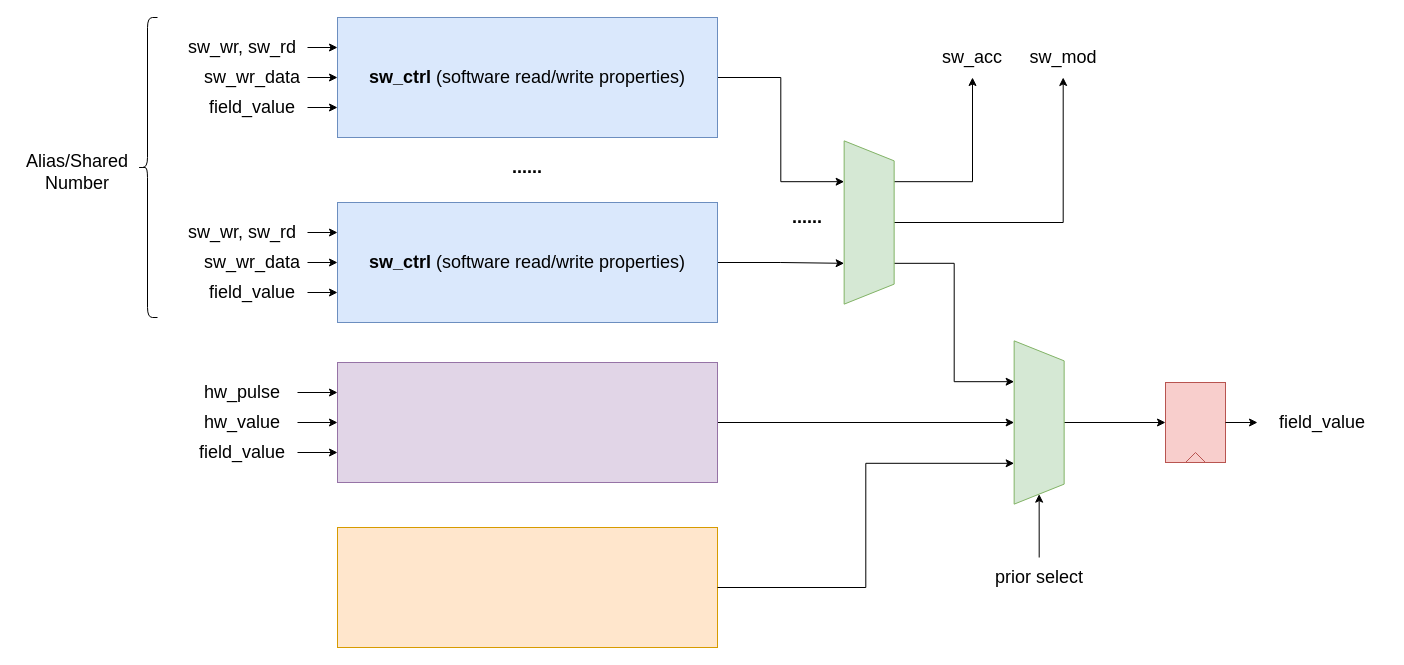
This 1404x665 diagram has some shape labels left out. Each missing label, with the centre of its shape:
"hw_ctrl (hardware read/write properties)" belongs at pixel 527 422.
"synchronous resets" belongs at pixel 527 587.
